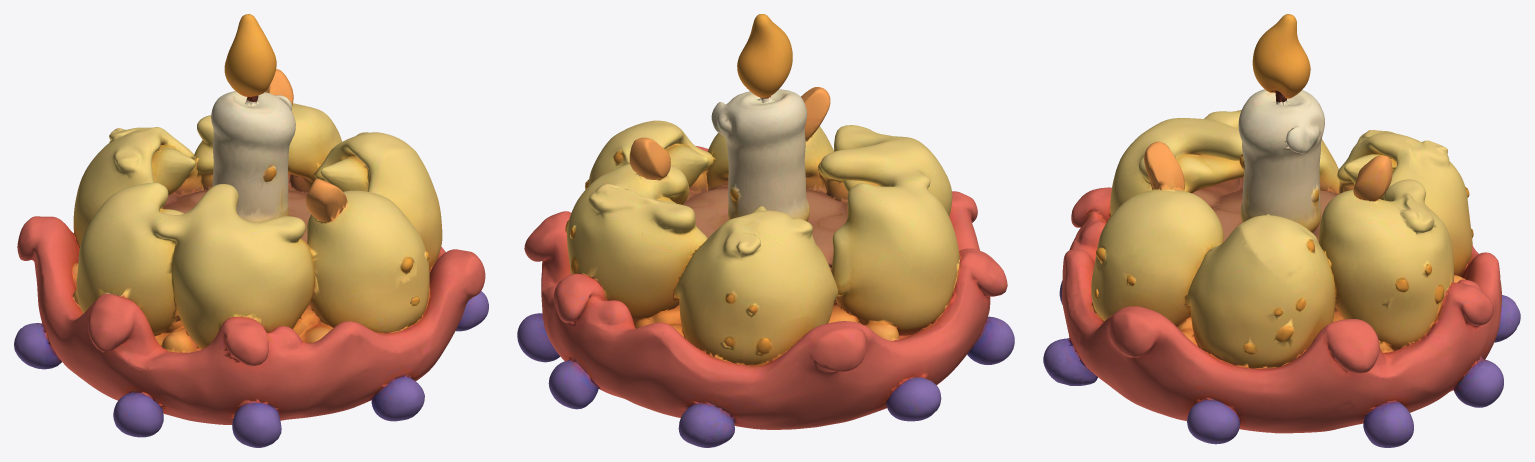
Rendered from env_nest_candle_01.glb.
3 views of the same model, side by side, from view 1: azimuth 30°, elevation 25°; view 2: azimuth 150°, elevation 25°; view 3: azimuth 270°, elevation 25° (orthographic). The views are drawn at different scales.
Visible parts, largest first — view 1: tripo_node_8739c0f0-aa2a-469c-a54a-33d4a33e8b16; view 2: tripo_node_8739c0f0-aa2a-469c-a54a-33d4a33e8b16; view 3: tripo_node_8739c0f0-aa2a-469c-a54a-33d4a33e8b16.
Boxes of the visible parts, <box> form: tripo_node_8739c0f0-aa2a-469c-a54a-33d4a33e8b16: <box>14,14,488,447</box>; tripo_node_8739c0f0-aa2a-469c-a54a-33d4a33e8b16: <box>517,14,1014,447</box>; tripo_node_8739c0f0-aa2a-469c-a54a-33d4a33e8b16: <box>1043,14,1520,447</box>.
Bounding box in the file's own units: 1.36 × 1.1 × 1.37.
1 material, 1 textured.
